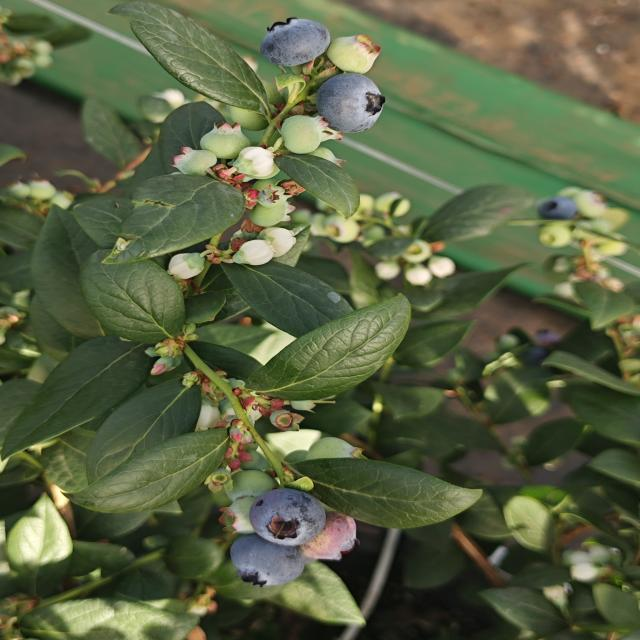ripe: (247, 482, 329, 548), (222, 528, 308, 590), (321, 68, 389, 138), (248, 17, 332, 66), (522, 325, 573, 368), (532, 191, 581, 221)
